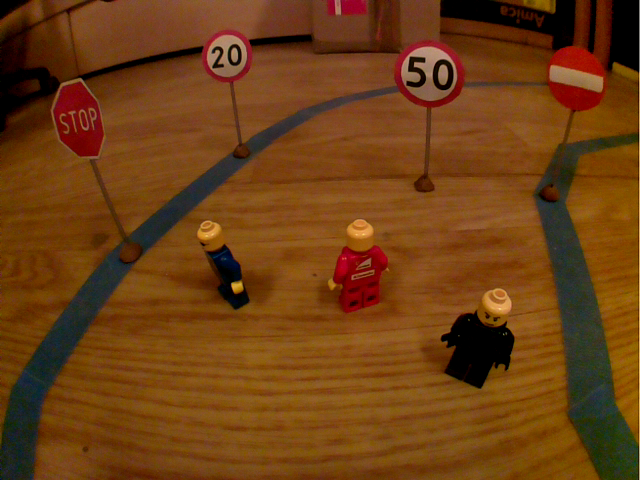Ograniczenie 20: (196, 25, 258, 87)
Ograniczenie 50: (389, 35, 468, 113)
Postac LEGO: (437, 283, 519, 401), (325, 210, 394, 316), (194, 214, 256, 314)
Stop: (47, 72, 113, 167)
Zakaz: (541, 43, 613, 116)
